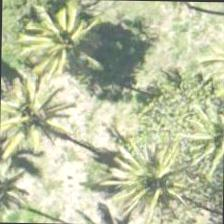Kelapa_Sawit: (126, 142, 218, 223), (18, 0, 110, 74), (0, 74, 59, 166)
